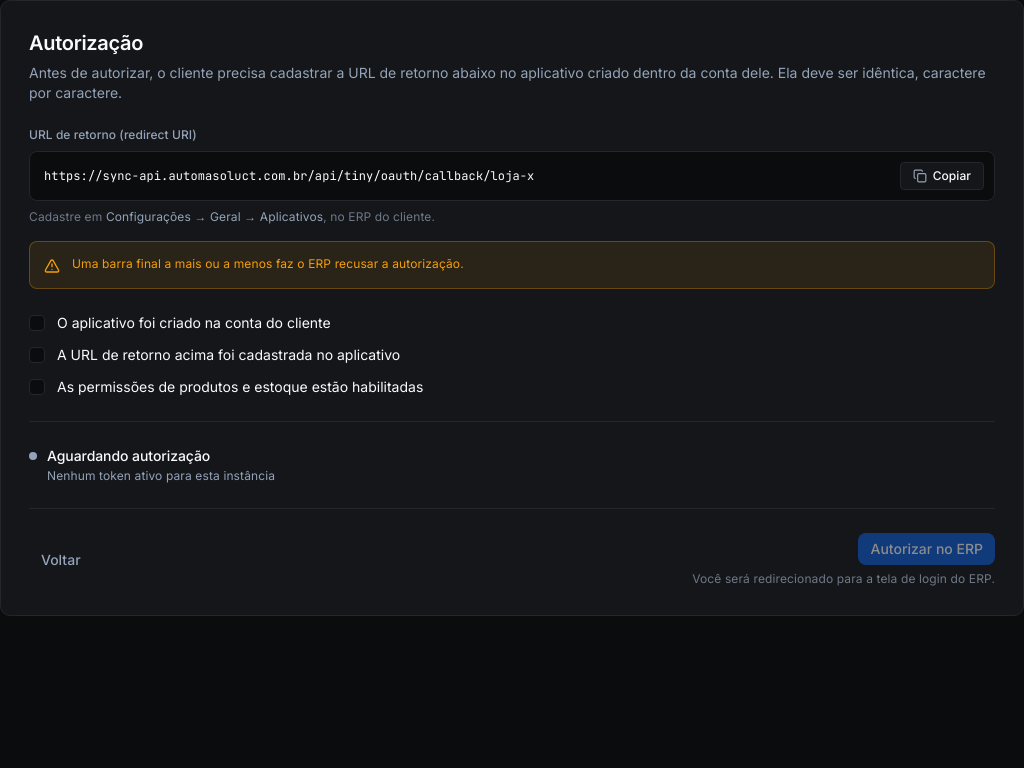
Scenario: Passo3Autorizacao › só habilita o botão quando os 3 itens do checklist estão marcados
Click the 1st checkbox at (37, 323), box x1=29 y1=315 x2=45 y2=331
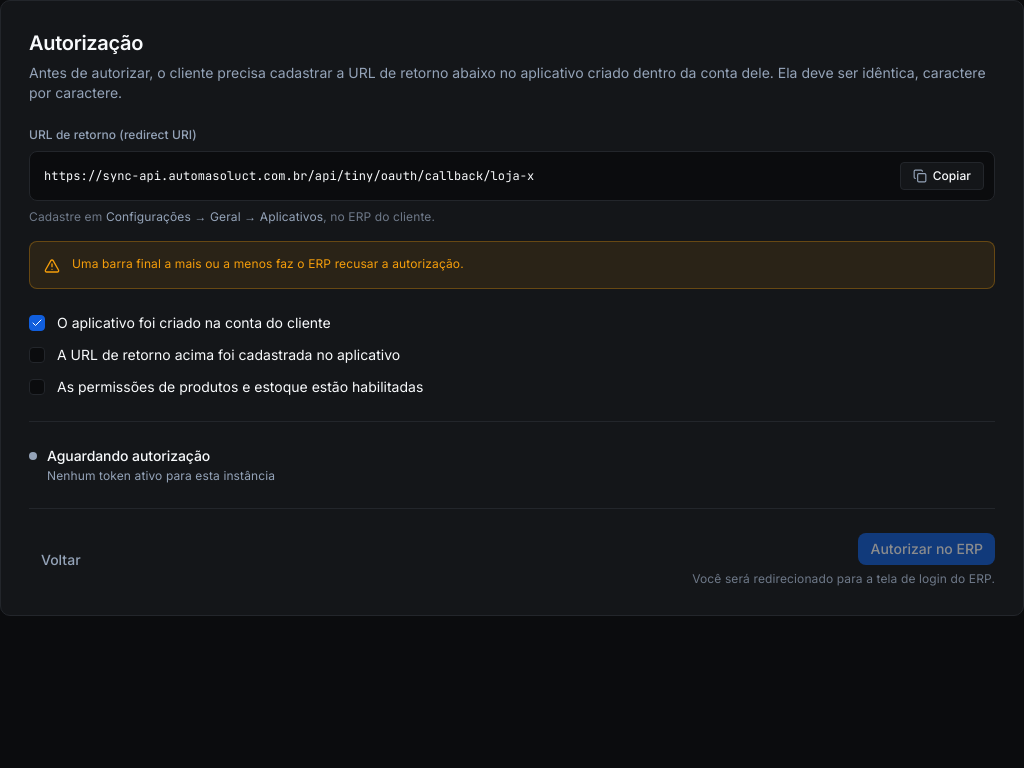
Click the 2nd checkbox at (37, 355), box x1=29 y1=347 x2=45 y2=363
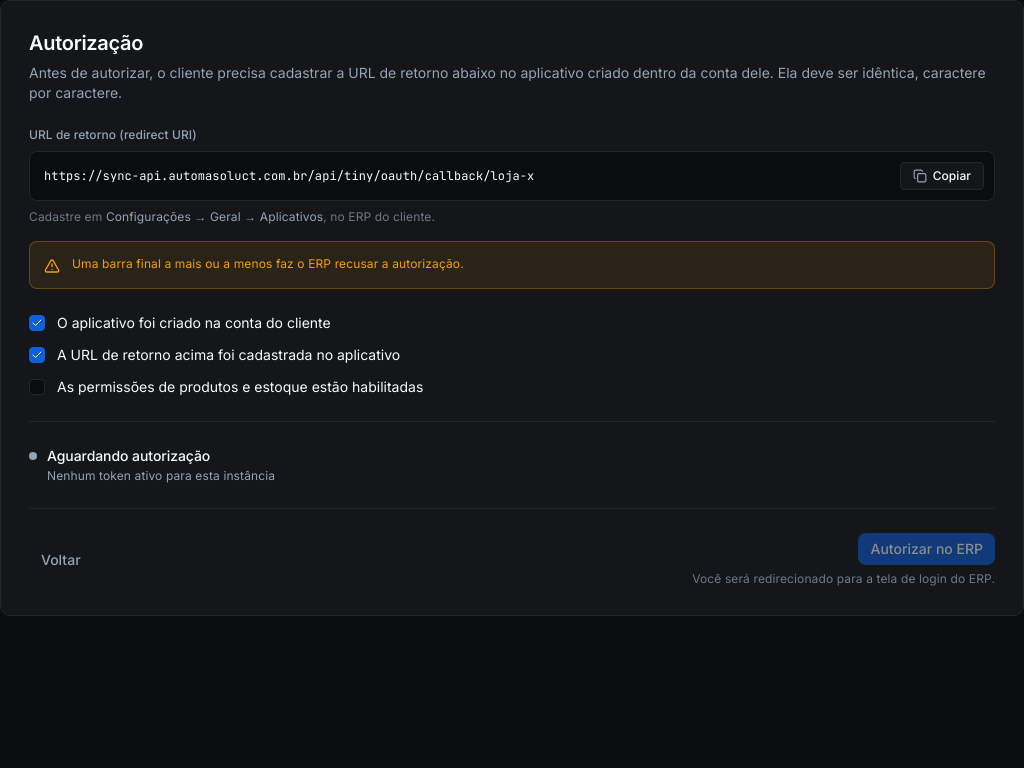
Check: the button "Autorizar no ERP" is disabled, box x1=858 y1=533 x2=995 y2=565
Click the 3rd checkbox at (37, 387), box x1=29 y1=379 x2=45 y2=395
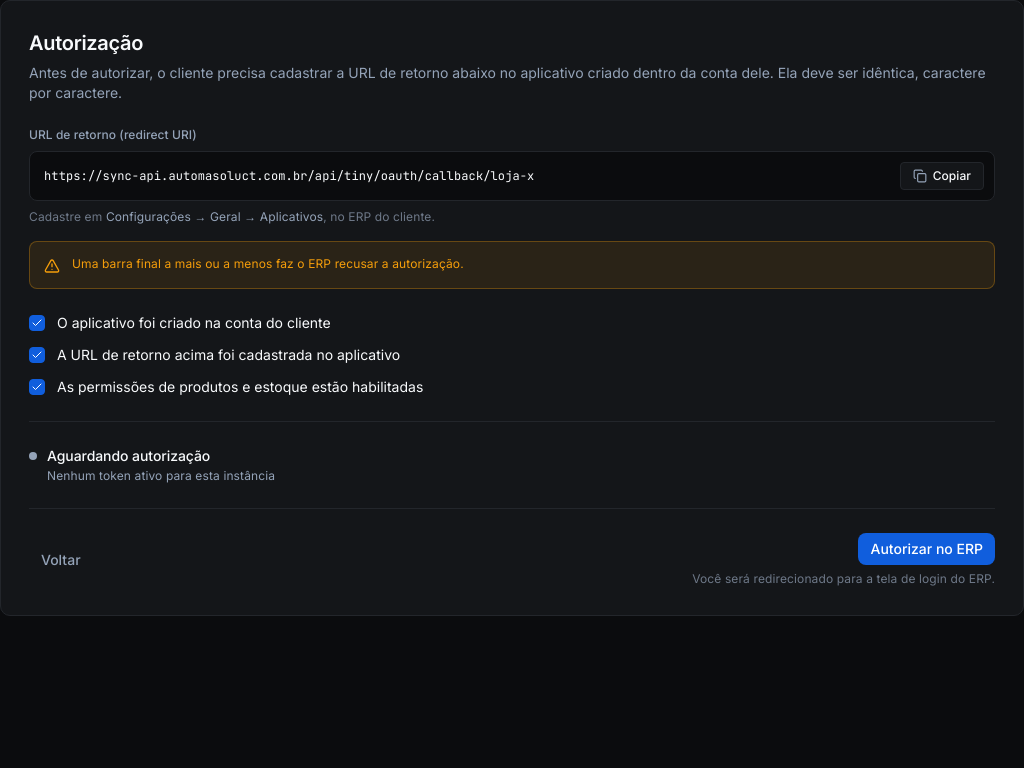
Check: the button "Autorizar no ERP" is enabled, box x1=858 y1=533 x2=995 y2=565
